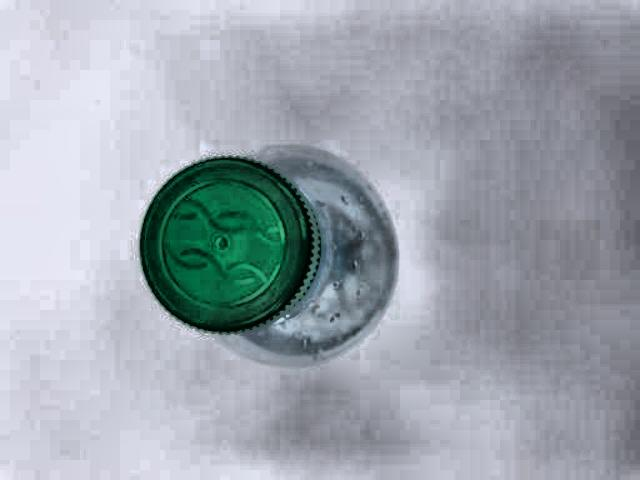Bottles: (140, 155, 398, 359)
